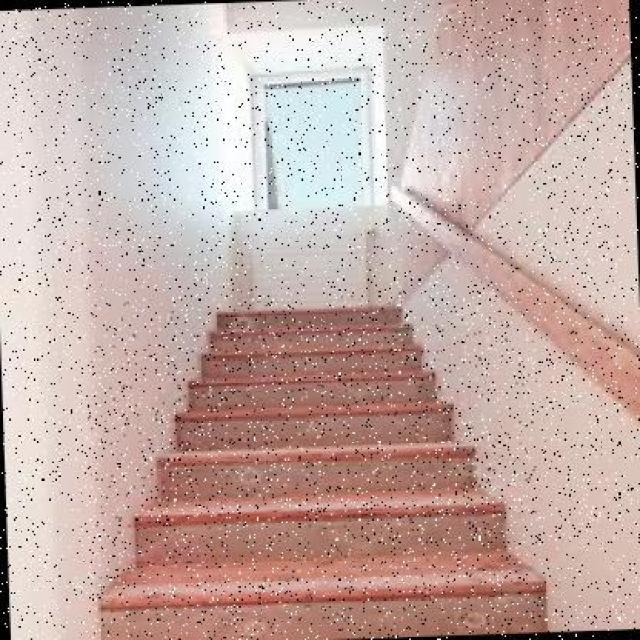Stairs: (71, 200, 619, 618)
